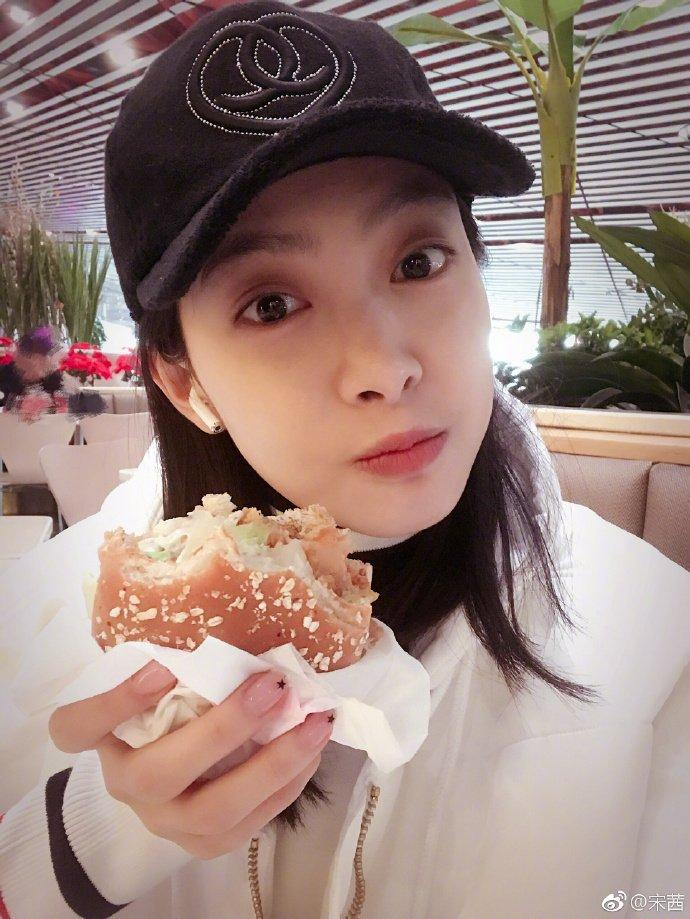earphone: (174, 382, 233, 434)
